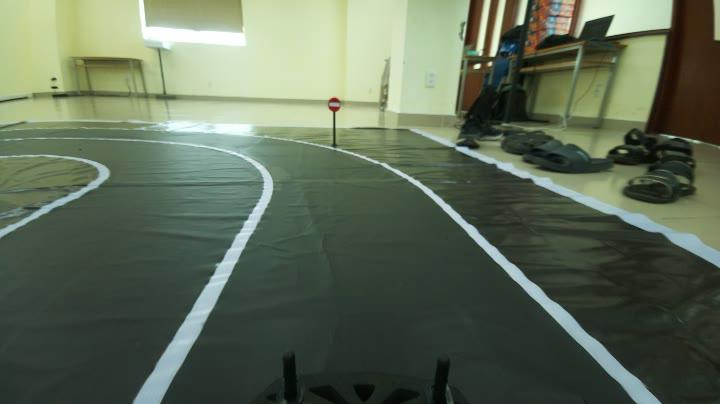no_entry: (323, 95, 342, 111)
